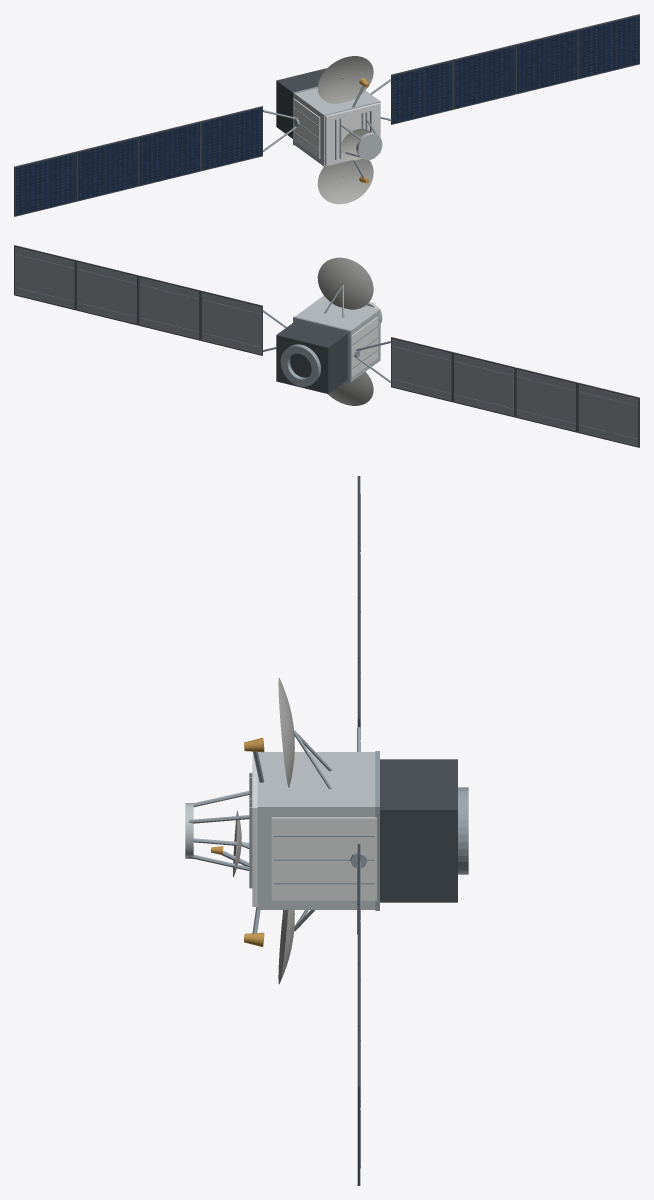
File: ssl-1300-echostar-ix.glb
The picture shows the model from 3 angles, top to bottom: view 1: azimuth 30°, elevation 25°; view 2: azimuth 150°, elevation 25°; view 3: azimuth 270°, elevation 25°; orthographic projection. The views are drawn at different scales.
Visible parts, largest first — view 1: Solar cell panel (×8), Communications reflector (×2), Solar panel frame (×8), Earth-facing deck, Payload module, Service module, Radiator face, Antenna tower platform, Deck-mounted reflector; view 2: Rear array substrate (×8), Service module, Solar panel frame (×8), Communications reflector (×2), Payload module, Radiator face, Launch adapter ring, Module interface; view 3: Service module, Payload module, Radiator face, Communications reflector, Launch adapter ring.
Part boxes in pixels (bbox=[...]): Solar cell panel (×8): bbox=[15, 16, 639, 215]; Communications reflector (×2): bbox=[317, 56, 373, 204]; Solar panel frame (×8): bbox=[14, 14, 639, 216]; Earth-facing deck: bbox=[325, 102, 380, 166]; Payload module: bbox=[294, 88, 380, 166]; Service module: bbox=[276, 68, 326, 138]; Radiator face: bbox=[293, 98, 320, 158]; Antenna tower platform: bbox=[356, 132, 382, 160]; Deck-mounted reflector: bbox=[340, 129, 371, 160]; Rear array substrate (×8): bbox=[15, 247, 638, 446]; Service module: bbox=[276, 321, 347, 393]; Solar panel frame (×8): bbox=[14, 245, 639, 447]; Communications reflector (×2): bbox=[317, 257, 373, 405]; Payload module: bbox=[295, 295, 380, 381]; Radiator face: bbox=[351, 317, 377, 377]; Launch adapter ring: bbox=[280, 344, 320, 386]; Module interface: bbox=[293, 316, 351, 383]; Service module: bbox=[380, 759, 457, 902]; Payload module: bbox=[257, 752, 375, 909]; Radiator face: bbox=[271, 817, 376, 900]; Communications reflector: bbox=[278, 677, 294, 787]; Launch adapter ring: bbox=[458, 787, 468, 874].
Size of the model in its own units: 30.97 by 6.93 by 6.07.
8 materials, 1 textured.
